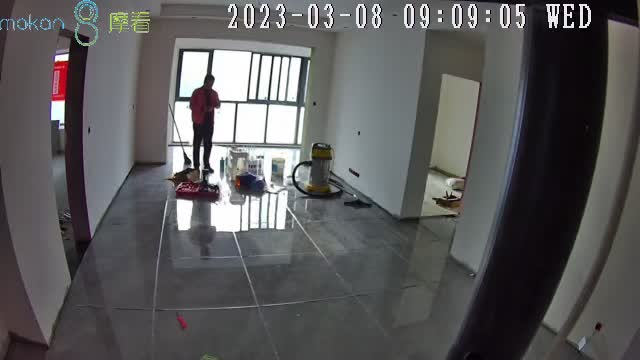people: (189, 74, 221, 172)
window: (172, 48, 310, 146)
